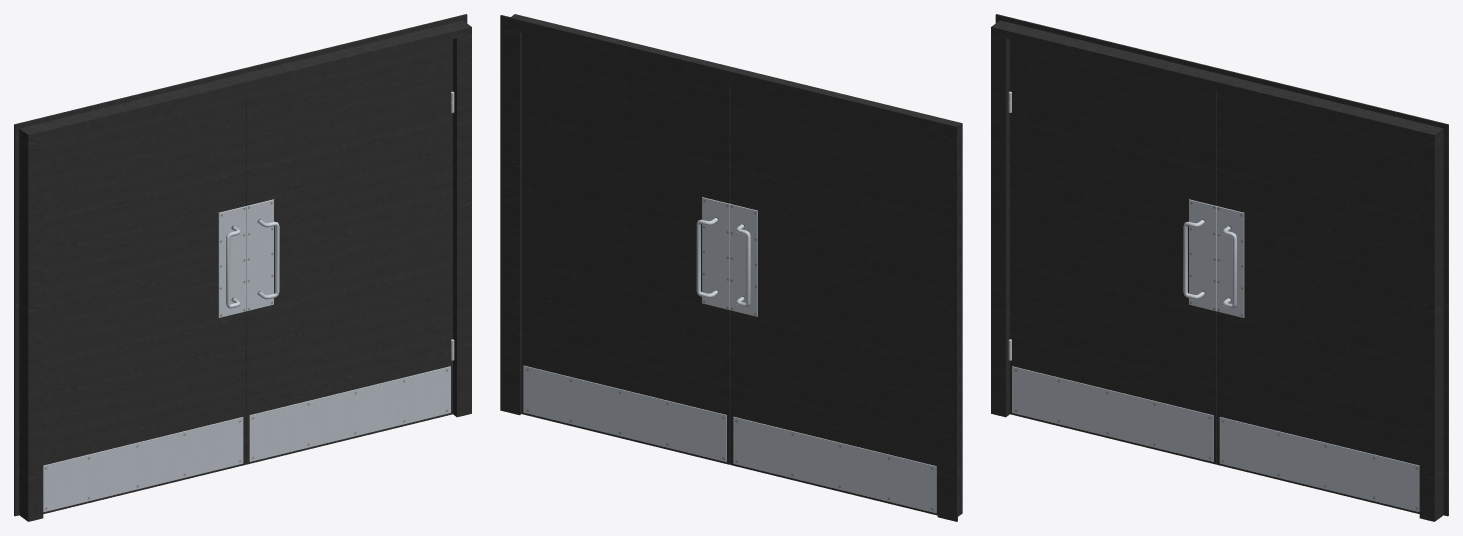
File: DoorDouble04.FBX
The picture shows the model from 3 angles, left to right: view 1: azimuth 30°, elevation 25°; view 2: azimuth 150°, elevation 25°; view 3: azimuth 330°, elevation 25°; orthographic projection.
Parts seen in each view (by area): view 1: DoorR, DoorL, Frame; view 2: DoorR, DoorL, Frame; view 3: DoorL, DoorR, Frame.
Boxes of the visible parts, left/top/right/bottom form: DoorR: left=246, top=39, right=454, bottom=464; DoorL: left=43, top=90, right=246, bottom=513; Frame: left=14, top=14, right=471, bottom=521; DoorR: left=521, top=33, right=730, bottom=464; DoorL: left=730, top=84, right=937, bottom=515; Frame: left=500, top=14, right=962, bottom=521; DoorL: left=1008, top=39, right=1216, bottom=464; DoorR: left=1216, top=90, right=1419, bottom=513; Frame: left=991, top=14, right=1448, bottom=521.
Size of the model in its own units: 306 by 253 by 23.12.
